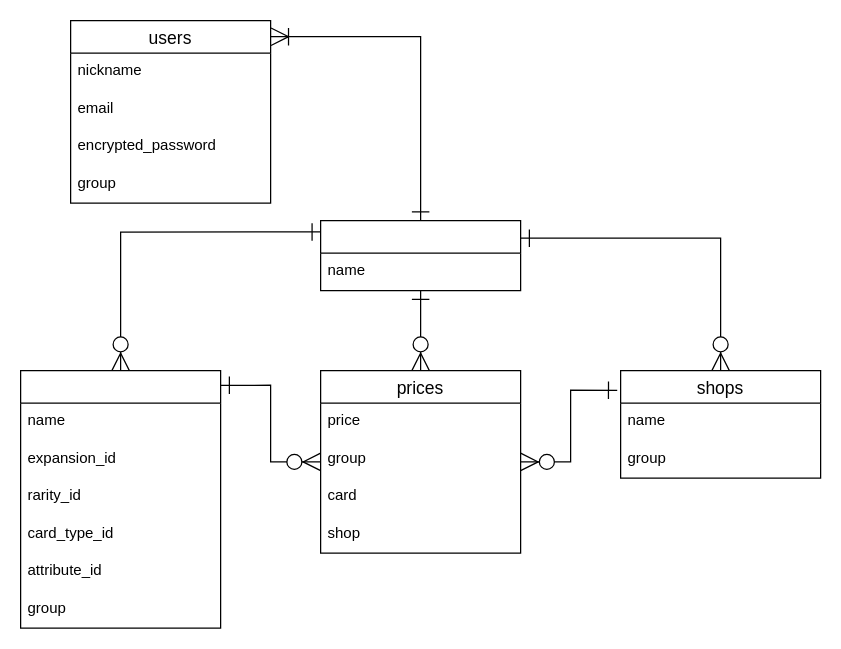
Image size: 841x649. Some labels were removed from this diagram. The box of each missing label's shape, as (x1, y1, x2, y2) in pixels:
cards: (19, 369, 221, 628)
groups: (319, 219, 521, 291)
